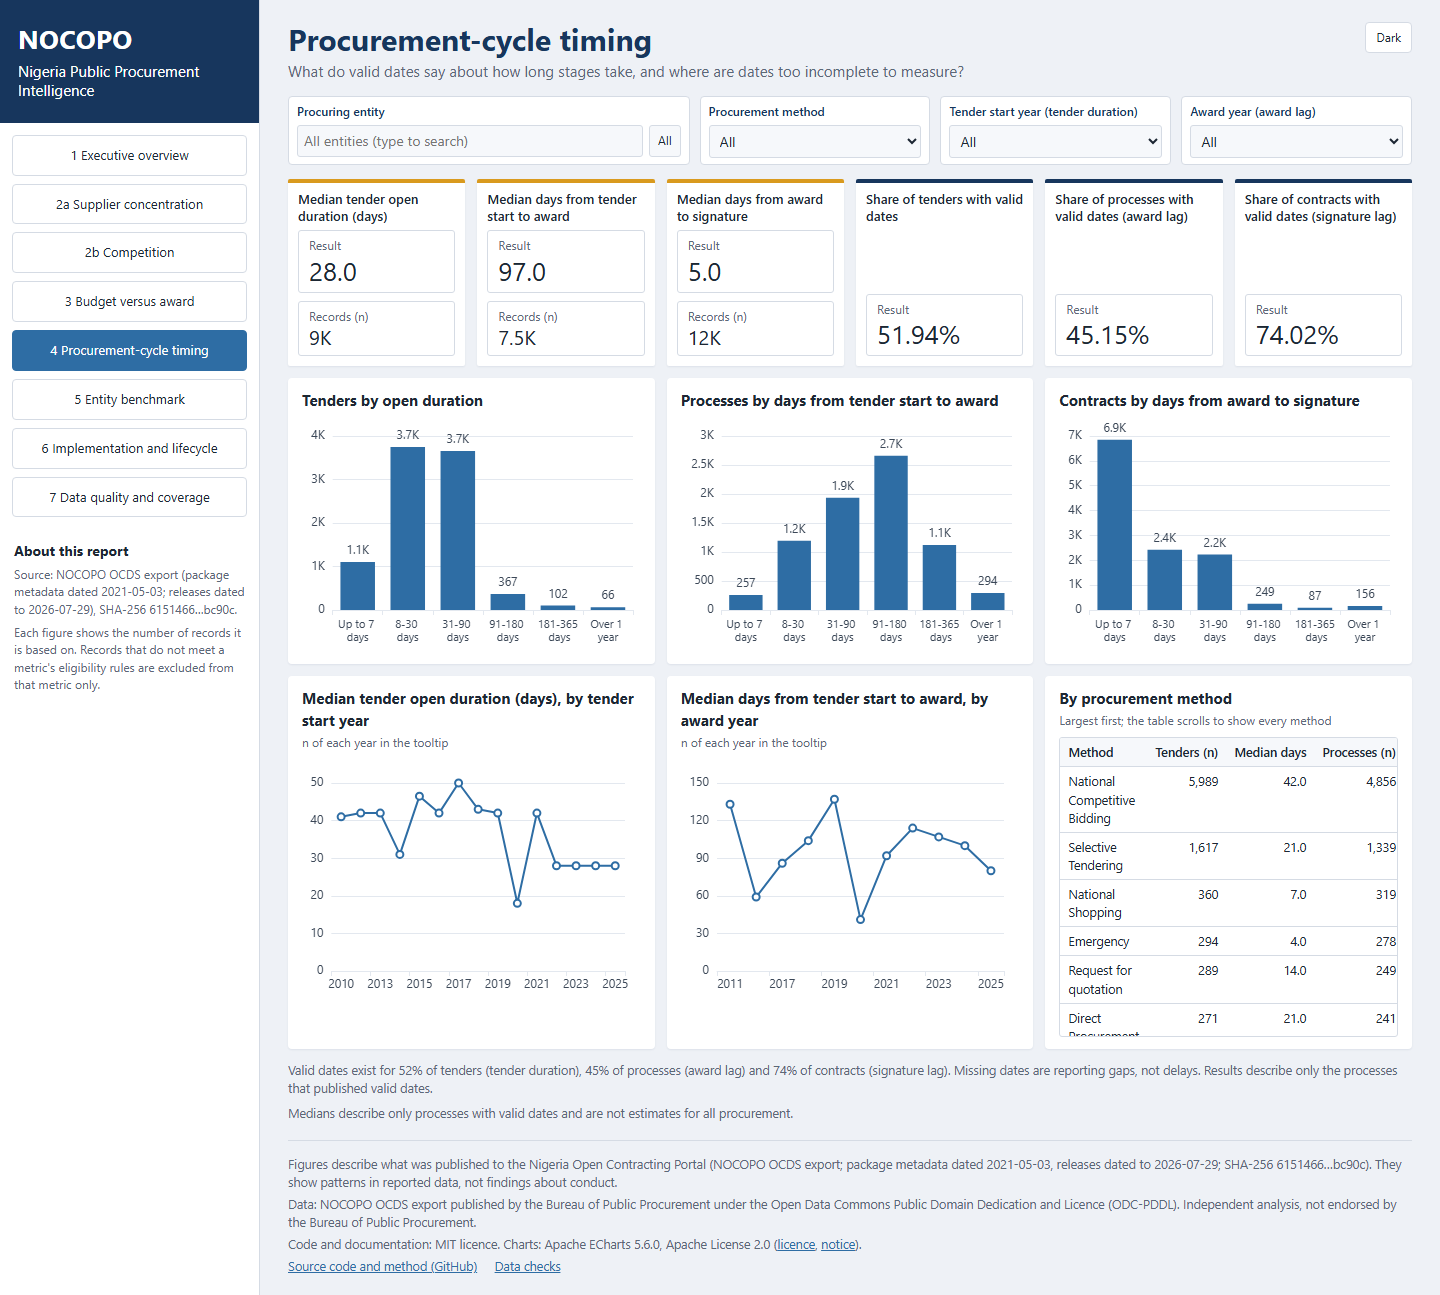

The dashboard page shown, as its layout file describes it:
{"tool":"powerbi","page":{"name":"4 Procurement-cycle timing","canvas":[1920,1080],"ordinal":4},"visuals":[{"type":"textbox","box":[0,0,280,190],"z":0},{"type":"textbox","box":[0,190,280,890],"z":1},{"type":"textbox","box":[20,18,250,150],"z":2},{"type":"pageNavigator","box":[12,205,256,480],"z":3},{"type":"textbox","box":[12,700,256,360],"z":4},{"type":"textbox","box":[310,15,1580,80],"z":5},{"type":"textbox","box":[310,995,1580,70],"z":6},{"type":"slicer","title":"Procuring entity","fields":{"Values":["DimBuyer.buyer_label"]},"box":[310,105,440,80],"z":7},{"type":"slicer","title":"Procurement method","fields":{"Values":["DimMethod.procurement_method"]},"box":[770,105,380,80],"z":8},{"type":"slicer","title":"Tender start year (tender duration)","fields":{"Values":["TenderDuration.Tender Start Year"]},"box":[1170,105,340,80],"z":9},{"type":"slicer","title":"Award year (award lag)","fields":{"Values":["AwardLag.Award Year"]},"box":[1530,105,340,80],"z":10},{"type":"textbox","box":[310,200,250,6],"z":11},{"type":"cardVisual","title":"Median tender open duration (days)","fields":{"Data":["_Measures.Median Tender Duration (days)","_Measures.Tender Duration n"]},"box":[310,206,250,134],"z":12},{"type":"textbox","box":[576,200,250,6],"z":13},{"type":"cardVisual","title":"Median days from tender start to award","fields":{"Data":["_Measures.Median Award Lag (days)","_Measures.Award Lag n"]},"box":[576,206,250,134],"z":14},{"type":"textbox","box":[842,200,250,6],"z":15},{"type":"cardVisual","title":"Median days from award to signature","fields":{"Data":["_Measures.Median Signature Lag (days)","_Measures.Signature Lag n"]},"box":[842,206,250,134],"z":16},{"type":"textbox","box":[1108,200,250,6],"z":17},{"type":"cardVisual","title":"Share of tenders with valid dates","fields":{"Data":["_Measures.Coverage M-E01"]},"box":[1108,206,250,134],"z":18},{"type":"textbox","box":[1374,200,250,6],"z":19},{"type":"cardVisual","title":"Share of processes with valid dates (award lag)","fields":{"Data":["_Measures.Coverage M-E02"]},"box":[1374,206,250,134],"z":20},{"type":"textbox","box":[1640,200,250,6],"z":21},{"type":"cardVisual","title":"Share of contracts with valid dates (signature lag)","fields":{"Data":["_Measures.Coverage Signature Lag"]},"box":[1640,206,250,134],"z":22},{"type":"clusteredColumnChart","title":"Tenders by open duration","fields":{"Category":["TenderDuration.Duration Band"],"Y":["_Measures.Tender Duration n"]},"box":[310,355,513.3,240],"z":23},{"type":"clusteredColumnChart","title":"Processes by days from tender start to award","fields":{"Category":["AwardLag.Duration Band"],"Y":["_Measures.Award Lag n"]},"box":[843.3,355,513.3,240],"z":24},{"type":"clusteredColumnChart","title":"Contracts by days from award to signature","fields":{"Category":["SignatureLag.Duration Band"],"Y":["_Measures.Signature Lag n"]},"box":[1376.7,355,513.3,240],"z":25},{"type":"lineChart","title":"Median tender open duration (days), by tender start year","fields":{"Category":["TenderDuration.Tender Start Year"],"Y":["_Measures.Median Tender Duration (days)"]},"box":[310,608,470,312],"z":26},{"type":"lineChart","title":"Median days from tender start to award, by award year","fields":{"Category":["AwardLag.Award Year"],"Y":["_Measures.Median Award Lag (days)"]},"box":[800,608,470,312],"z":27},{"type":"tableEx","title":"By procurement method","fields":{"Values":["DimMethod.procurement_method","_Measures.Tender Duration n","_Measures.Median Tender Duration (days)","_Measures.Award Lag n","_Measures.Median Award Lag (days)"]},"box":[1290,608,600,312],"z":28},{"type":"textbox","box":[310,928,1580,62],"z":29}]}

Visuals, with their boxes on the page's 1920x1080 design canvas (x1, y1, x2, y2). These are canvas units, not pixel positions in the 1440x1295 screenshot, which may show the page scaled, cropped or inside an application window:
textbox: detection(0, 0, 280, 190)
textbox: detection(0, 190, 280, 1080)
textbox: detection(20, 18, 270, 168)
pageNavigator: detection(12, 205, 268, 685)
textbox: detection(12, 700, 268, 1060)
textbox: detection(310, 15, 1890, 95)
textbox: detection(310, 995, 1890, 1065)
"Procuring entity" slicer: detection(310, 105, 750, 185)
"Procurement method" slicer: detection(770, 105, 1150, 185)
"Tender start year (tender duration)" slicer: detection(1170, 105, 1510, 185)
"Award year (award lag)" slicer: detection(1530, 105, 1870, 185)
textbox: detection(310, 200, 560, 206)
"Median tender open duration (days)" cardVisual: detection(310, 206, 560, 340)
textbox: detection(576, 200, 826, 206)
"Median days from tender start to award" cardVisual: detection(576, 206, 826, 340)
textbox: detection(842, 200, 1092, 206)
"Median days from award to signature" cardVisual: detection(842, 206, 1092, 340)
textbox: detection(1108, 200, 1358, 206)
"Share of tenders with valid dates" cardVisual: detection(1108, 206, 1358, 340)
textbox: detection(1374, 200, 1624, 206)
"Share of processes with valid dates (award lag)" cardVisual: detection(1374, 206, 1624, 340)
textbox: detection(1640, 200, 1890, 206)
"Share of contracts with valid dates (signature lag)" cardVisual: detection(1640, 206, 1890, 340)
"Tenders by open duration" clusteredColumnChart: detection(310, 355, 823, 595)
"Processes by days from tender start to award" clusteredColumnChart: detection(843, 355, 1357, 595)
"Contracts by days from award to signature" clusteredColumnChart: detection(1377, 355, 1890, 595)
"Median tender open duration (days), by tender start year" lineChart: detection(310, 608, 780, 920)
"Median days from tender start to award, by award year" lineChart: detection(800, 608, 1270, 920)
"By procurement method" tableEx: detection(1290, 608, 1890, 920)
textbox: detection(310, 928, 1890, 990)
